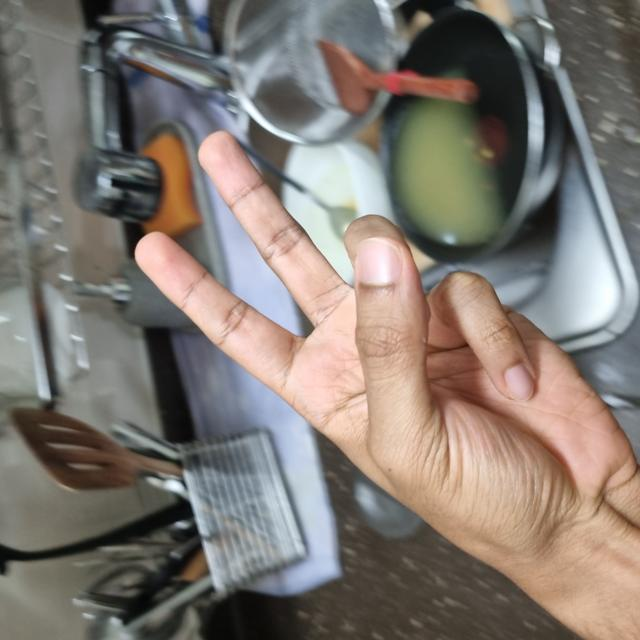Scissors: (22, 139, 506, 639)
